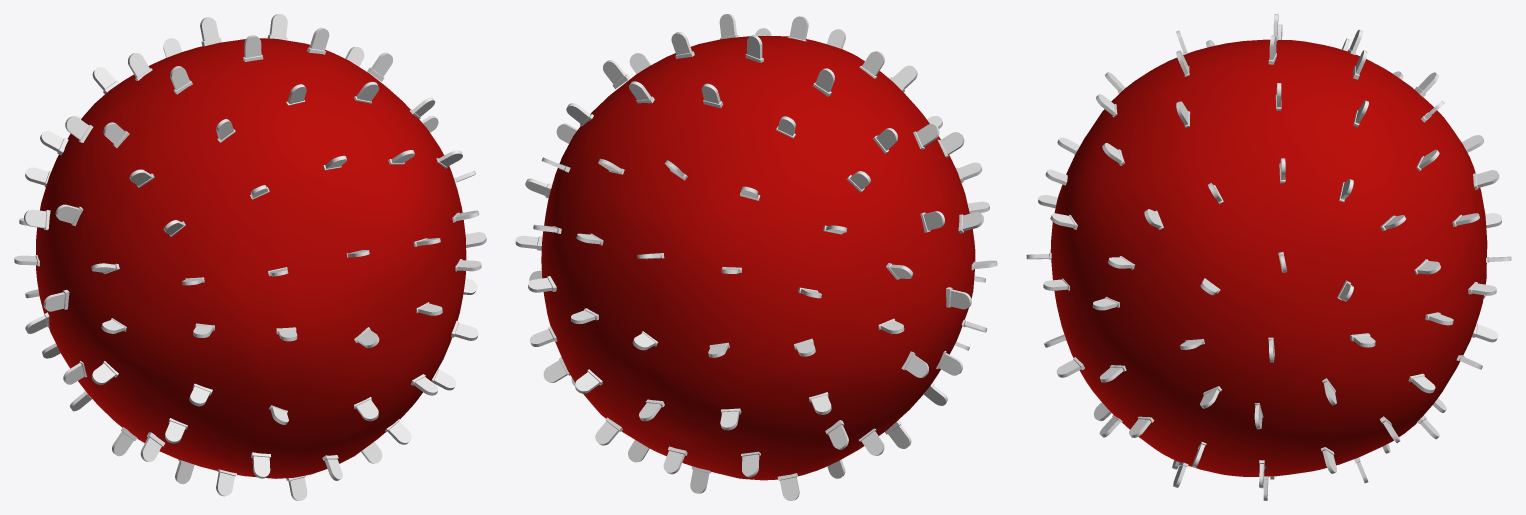
Rendered from PLANET 4.fbx.
3 views of the same model, side by side, from view 1: azimuth 30°, elevation 25°; view 2: azimuth 150°, elevation 25°; view 3: azimuth 270°, elevation 25° (orthographic).
Visible parts, largest first — view 1: planet 4; view 2: planet 4; view 3: planet 4.
Part boxes in pixels (x1,y1,x2,y2): planet 4: (36,38,466,478); planet 4: (541,36,975,480); planet 4: (1050,39,1487,476).
Size of the model in its own units: 4252 by 4272 by 4245.
